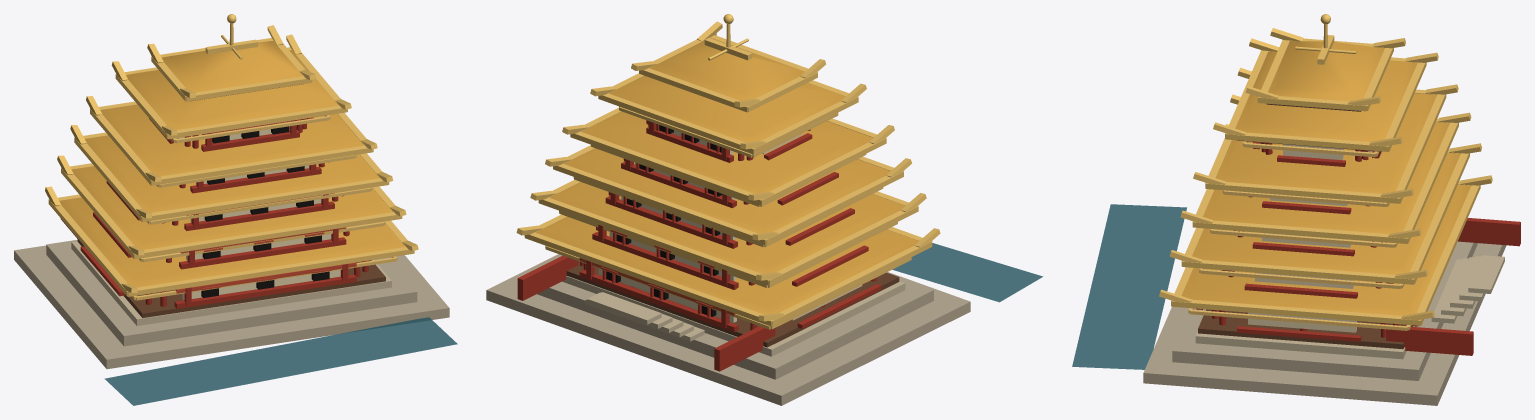
The model's file is model-medium.glb.
3 views of the same model, side by side, from view 1: azimuth 30°, elevation 25°; view 2: azimuth 150°, elevation 25°; view 3: azimuth 270°, elevation 25° (orthographic). The views are drawn at different scales.
Parts seen in each view (by area): view 1: SnakeHill_Lower_Terrace, Yangtze_River_Context, SnakeHill_Upper_Terrace, Floor_4_Yellow_Glazed_Hip_Roof, Floor_1_Yellow_Glazed_Hip_Roof, Floor_2_Yellow_Glazed_Hip_Roof, Floor_5_Yellow_Glazed_Hip_Roof, Floor_3_Yellow_Glazed_Hip_Roof, Top_Crown_Yellow_Glazed_Roof, Viewing_Deck_Back_Rail (×5), Main_Platform_Slab, Floor_1_Yellow_Glazed_Hip_Roof_back_gold_eave (+21 smaller); view 2: SnakeHill_Lower_Terrace, Floor_4_Yellow_Glazed_Hip_Roof, Floor_1_Yellow_Glazed_Hip_Roof, Floor_2_Yellow_Glazed_Hip_Roof, SnakeHill_Upper_Terrace, Floor_3_Yellow_Glazed_Hip_Roof, Floor_5_Yellow_Glazed_Hip_Roof, Top_Crown_Yellow_Glazed_Roof, Yangtze_River_Context, Main_Platform_Slab, Floor_1_Shadow_Platform, Floor_1_Yellow_Glazed_Hip_Roof_front_gold_eave (+26 smaller); view 3: Yangtze_River_Context, SnakeHill_Lower_Terrace, Floor_4_Yellow_Glazed_Hip_Roof, Floor_1_Yellow_Glazed_Hip_Roof, SnakeHill_Upper_Terrace, Floor_2_Yellow_Glazed_Hip_Roof, Floor_5_Yellow_Glazed_Hip_Roof, Floor_3_Yellow_Glazed_Hip_Roof, Top_Crown_Yellow_Glazed_Roof, Viewing_Deck_Right_Rail (×5), Floor_1_Shadow_Platform, Main_Platform_Slab (+30 smaller).
Boxes of the visible parts, box(x1,y1,x2,y2) form: SnakeHill_Lower_Terrace: box(14, 245, 449, 369); Yangtze_River_Context: box(104, 317, 457, 405); SnakeHill_Upper_Terrace: box(46, 239, 417, 346); Floor_4_Yellow_Glazed_Hip_Roof: box(100, 104, 363, 176); Floor_1_Yellow_Glazed_Hip_Roof: box(59, 197, 405, 287); Floor_2_Yellow_Glazed_Hip_Roof: box(72, 166, 392, 249); Floor_5_Yellow_Glazed_Hip_Roof: box(126, 50, 338, 130); Floor_3_Yellow_Glazed_Hip_Roof: box(85, 135, 379, 212); Top_Crown_Yellow_Glazed_Roof: box(162, 41, 302, 92); Viewing_Deck_Back_Rail (×5): box(135, 116, 396, 300); Main_Platform_Slab: box(71, 241, 391, 325); Floor_1_Yellow_Glazed_Hip_Roof_back_gold_eave: box(128, 247, 414, 296); SnakeHill_Lower_Terrace: box(486, 254, 970, 405); Floor_4_Yellow_Glazed_Hip_Roof: box(581, 111, 873, 193); Floor_1_Yellow_Glazed_Hip_Roof: box(536, 216, 918, 314); Floor_2_Yellow_Glazed_Hip_Roof: box(549, 182, 905, 273); SnakeHill_Upper_Terrace: box(537, 277, 933, 379); Floor_3_Yellow_Glazed_Hip_Roof: box(564, 148, 890, 233); Floor_5_Yellow_Glazed_Hip_Roof: box(609, 75, 845, 142); Top_Crown_Yellow_Glazed_Roof: box(649, 37, 804, 100); Yangtze_River_Context: box(892, 243, 1043, 302); Main_Platform_Slab: box(562, 276, 905, 356); Floor_1_Shadow_Platform: box(566, 261, 899, 347); Floor_1_Yellow_Glazed_Hip_Roof_front_gold_eave: box(525, 232, 771, 326); Yangtze_River_Context: box(1072, 204, 1186, 369); SnakeHill_Lower_Terrace: box(1143, 243, 1506, 405); Floor_4_Yellow_Glazed_Hip_Roof: box(1216, 93, 1436, 193); Floor_1_Yellow_Glazed_Hip_Roof: box(1181, 184, 1470, 315); SnakeHill_Upper_Terrace: box(1172, 241, 1477, 380); Floor_2_Yellow_Glazed_Hip_Roof: box(1192, 152, 1460, 274); Floor_5_Yellow_Glazed_Hip_Roof: box(1235, 51, 1417, 141); Floor_3_Yellow_Glazed_Hip_Roof: box(1203, 122, 1449, 233); Top_Crown_Yellow_Glazed_Roof: box(1268, 41, 1384, 101); Viewing_Deck_Right_Rail (×5): box(1190, 142, 1407, 330); Floor_1_Shadow_Platform: box(1198, 309, 1413, 349); Main_Platform_Slab: box(1195, 326, 1417, 359).
Bounding box in the file's own units: 10.67 × 7.48 × 10.21.
